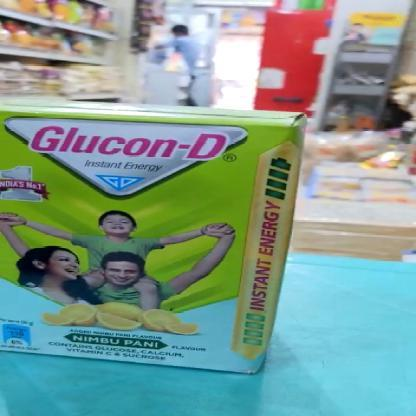Glucon D Nimbu Pani 1-KG: (2, 106, 289, 371)
